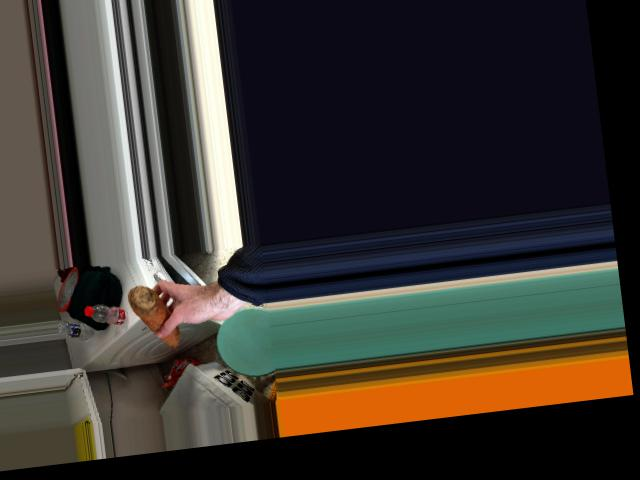sweet_potato: (126, 282, 179, 352)
